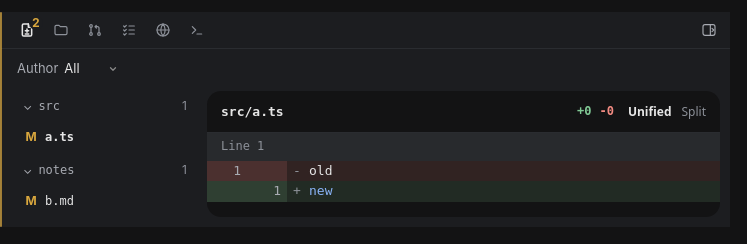
Test case: WorkspacePanel › filters Changes by author once a subagent has write paths
Expected: the text titled "notes/b.md" is shown, [45,192,74,210]
Select "Main" in the dropdown labelled "Author" at (91, 69), box [64,57,118,81]
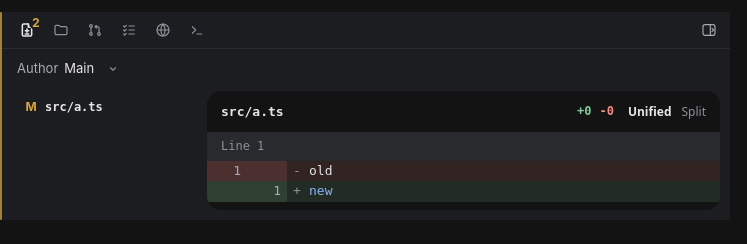
Select "Writer" in the dropdown labelled "Author" at (91, 69), box [64,57,118,81]
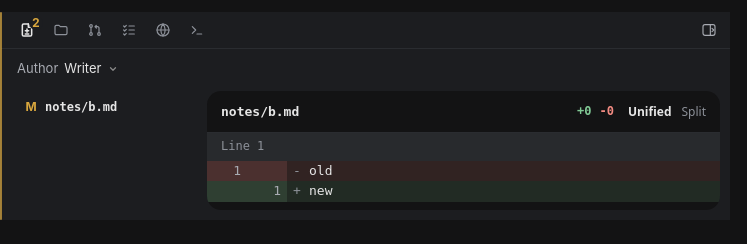
Now the button titled "src/a.ts" is gone
Now the 1st text titled "notes/b.md" is shown, box [45,98,117,116]
